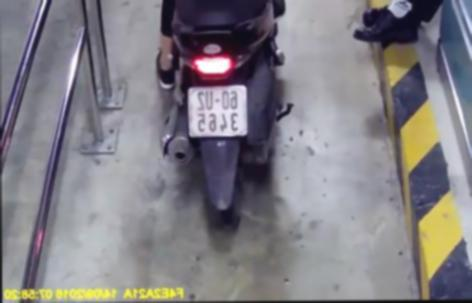License_Plate: (182, 81, 253, 140)
